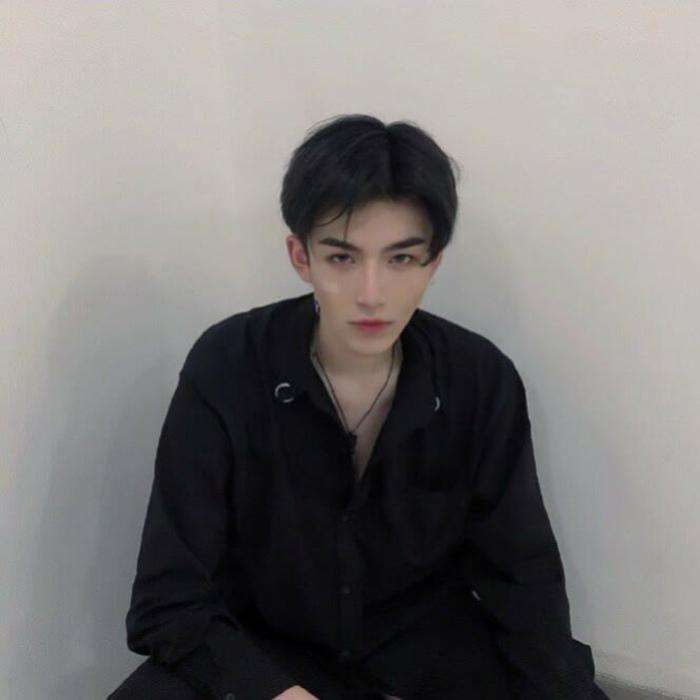person: (99, 105, 577, 659)
